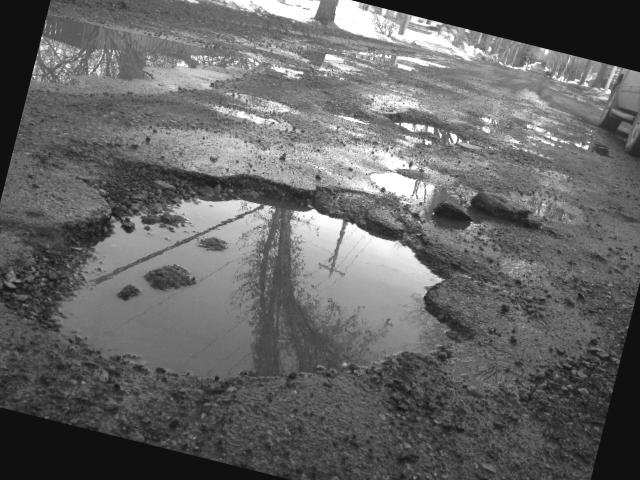Pothole: (0, 109, 494, 448), (26, 0, 324, 164), (358, 150, 593, 265), (514, 109, 636, 180), (380, 98, 488, 168)
